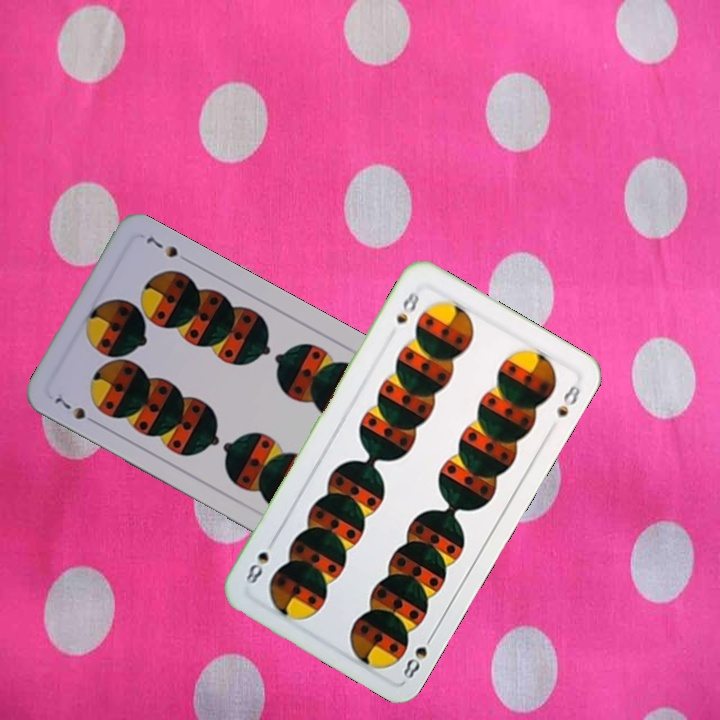S7: (51, 393, 102, 428)
S8: (399, 628, 438, 681), (392, 287, 423, 327)
